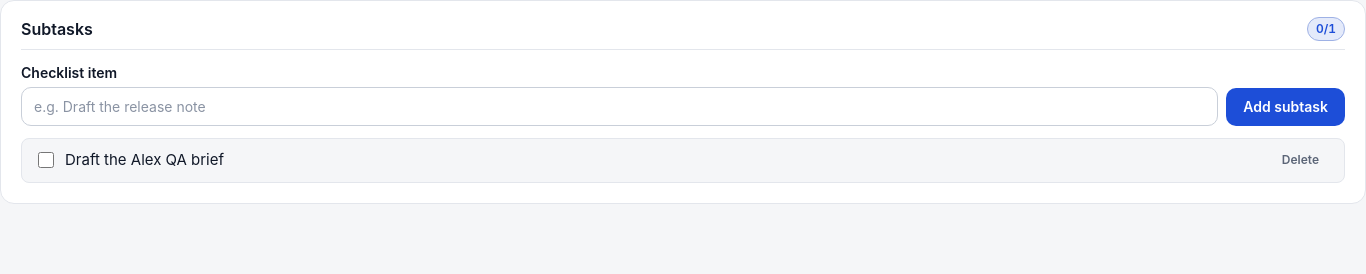
it: ChecklistPanel › adds an item optimistically and persists it
Expected: the checkbox labelled "Draft the Alex QA brief" is shown, [38,152,54,168]
In the field labelled "Checklist item": (620, 106) [21,87,1218,126], type "Review with Priya Lunch"
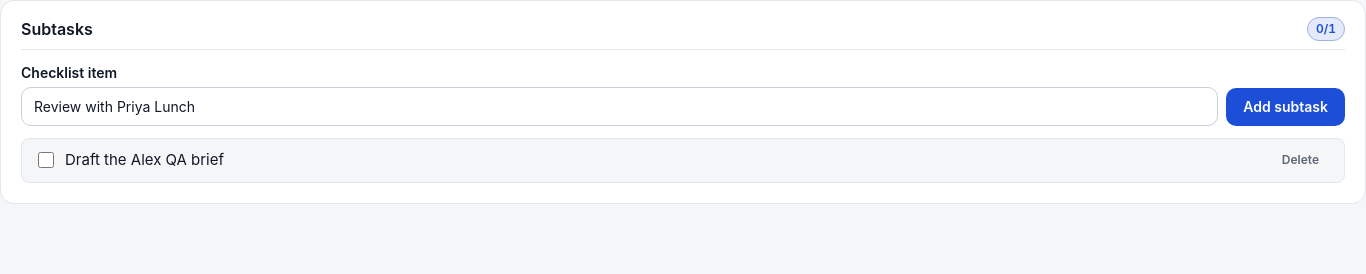
Click the button "Add subtask": (1286, 107) [1226,88,1345,126]
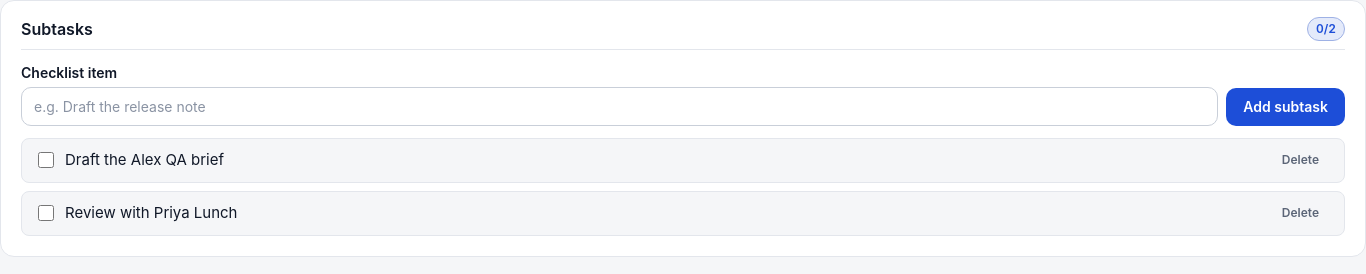
Expected: the checkbox labelled "Review with Priya Lunch" is shown, [38,205,54,221]
Expected: the text with test id "checklist-progress" reads "0/2", [1316,21,1336,36]
Expected: the field labelled "Checklist item" is empty, [21,87,1218,126]
